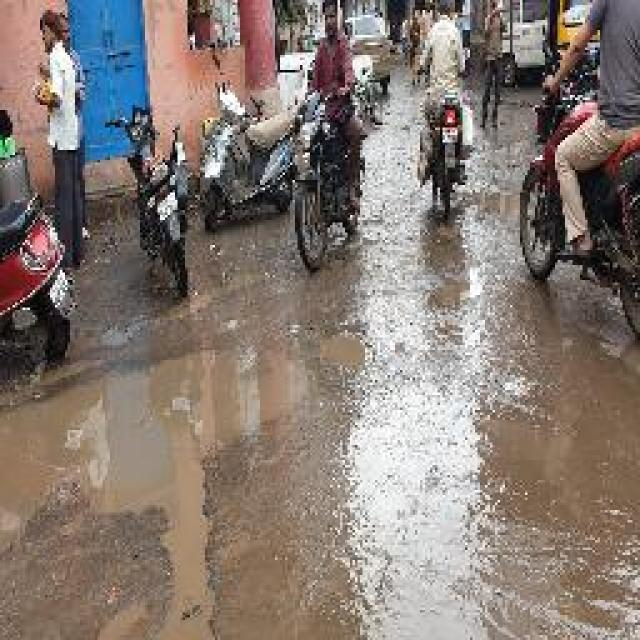waterlogging: (0, 361, 325, 640)
